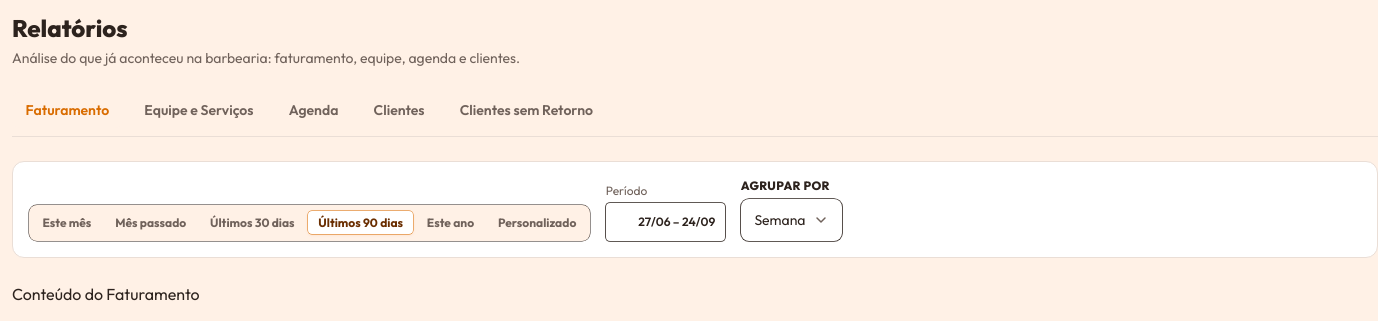
Test: RelatoriosLayout — gate de desktop › preserva o período da URL ao trocar de página (spec 038: "preservado ao navegar entre as páginas do módulo")
Click the link "Agenda" at coordinates (314, 110), box [289,101,338,119]
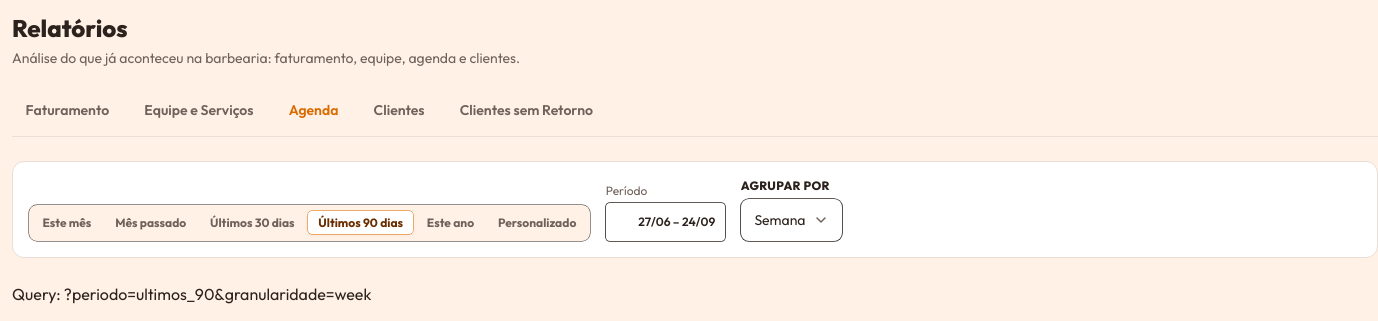
expect the text "Query: ?periodo=ultimos_90&granularidade=week" is shown: met, box [12,284,371,304]
